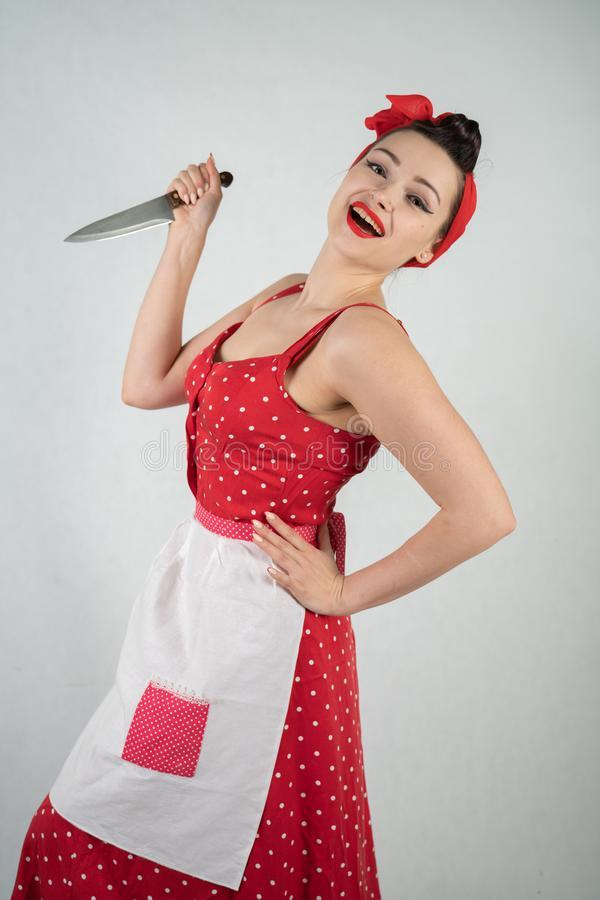criminal: (11, 84, 518, 900)
weapon: (66, 166, 240, 250)
